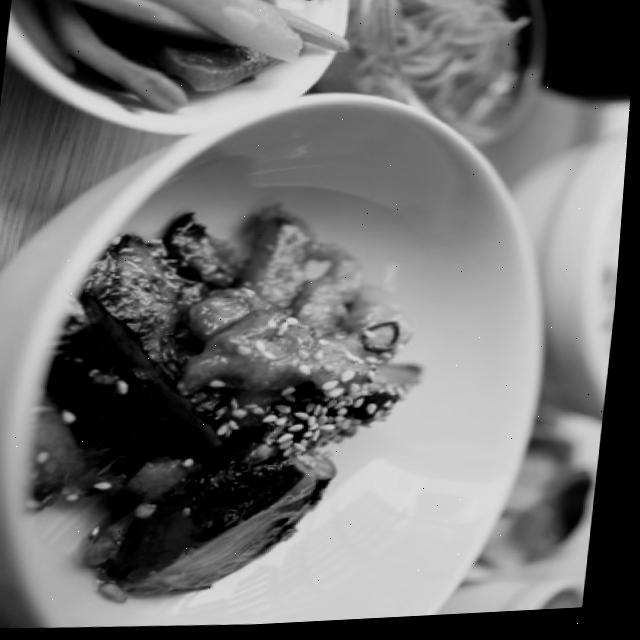鸡蛋料理: (0, 170, 436, 637)
